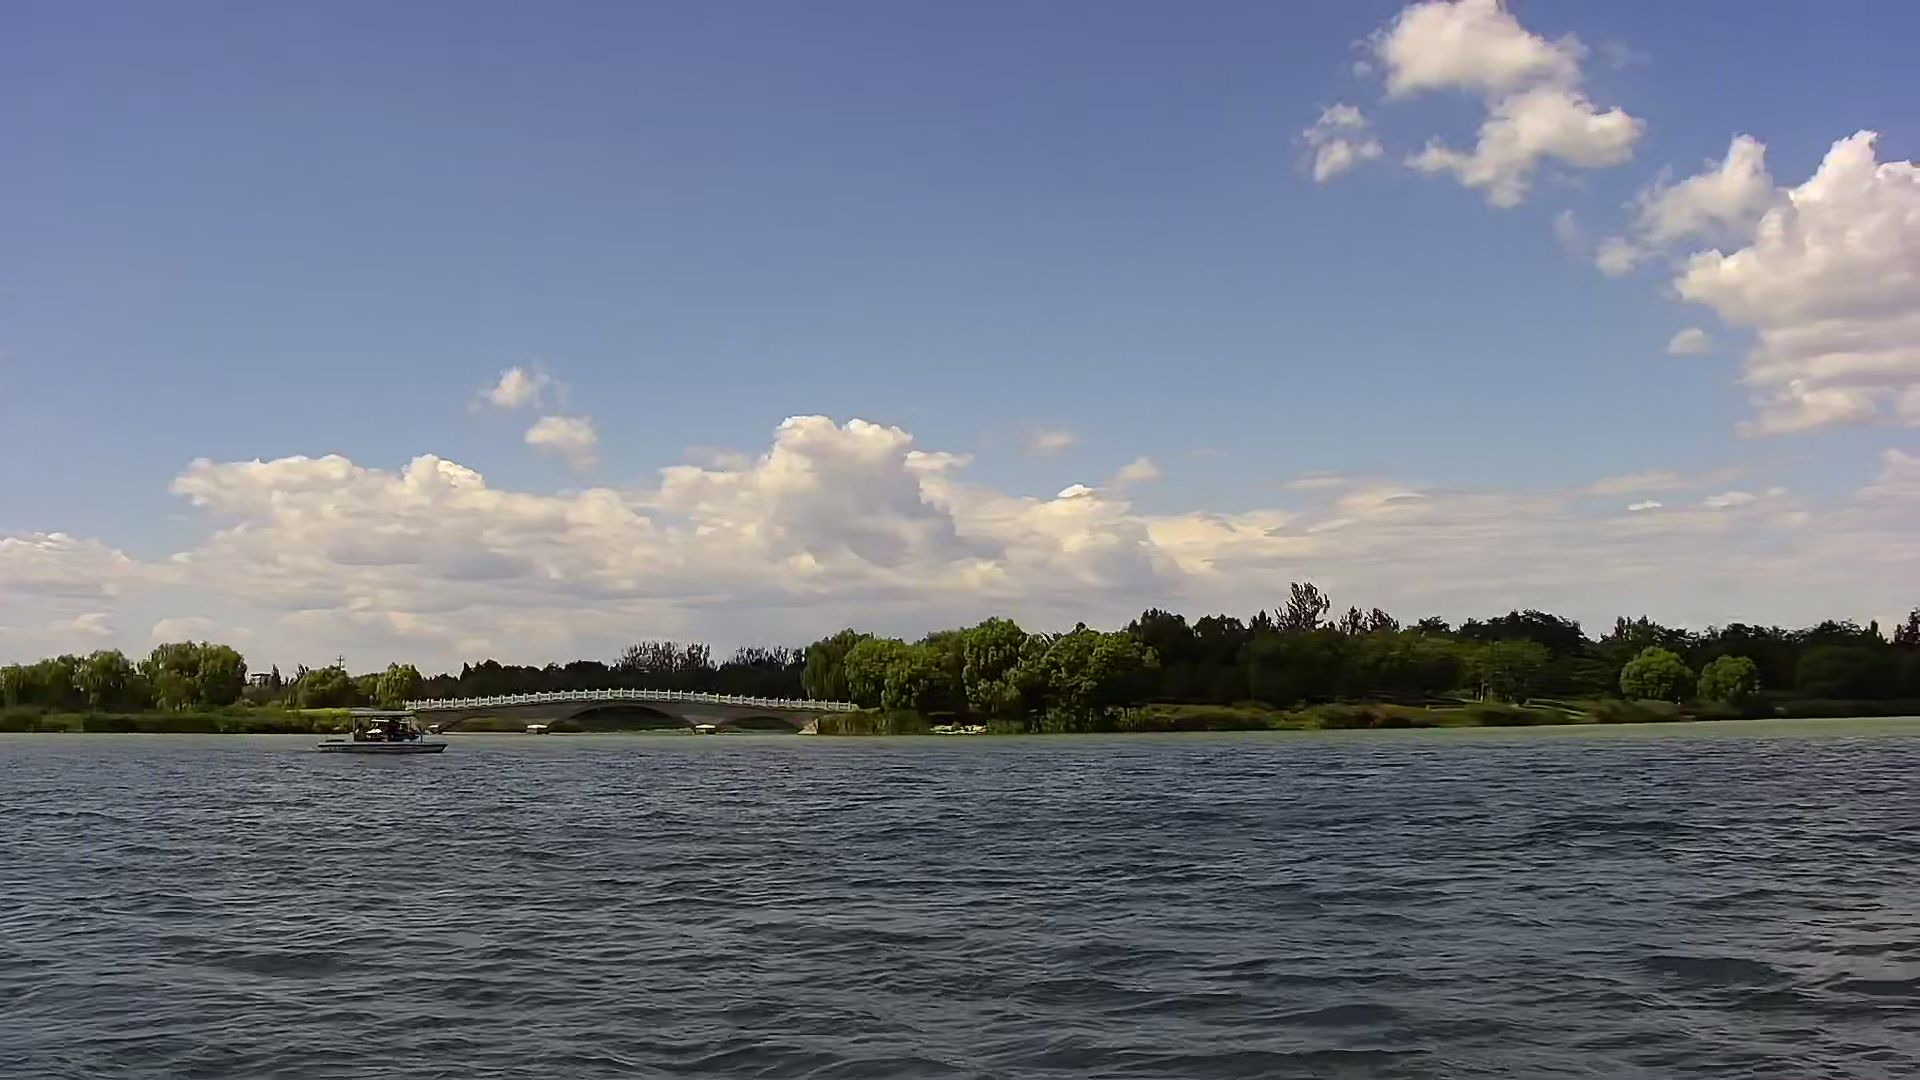boat: (319, 704, 452, 758)
bridge: (421, 684, 862, 736)
